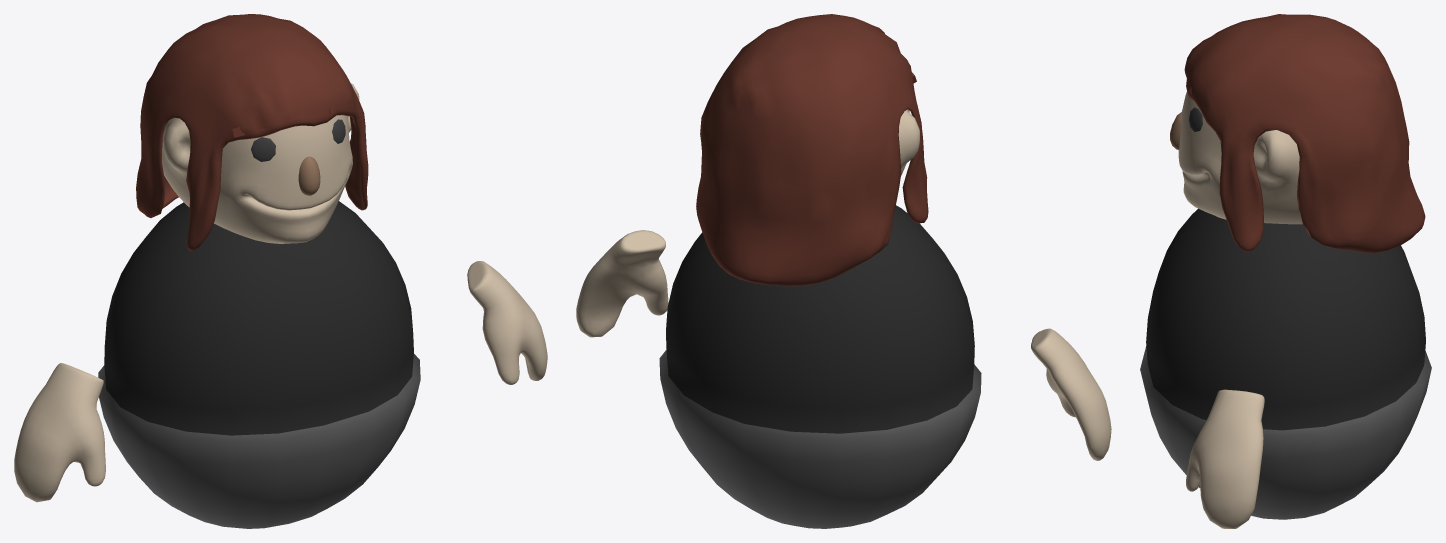
File: NPC_female01_plain.fbx
The picture shows the model from 3 angles, left to right: view 1: azimuth 30°, elevation 25°; view 2: azimuth 150°, elevation 25°; view 3: azimuth 270°, elevation 25°; orthographic projection.
Parts seen in each view (by area): view 1: Group31901, hair01:Group21854, Group18725, Group65443, Group65442, Group65441; view 2: Group31901, hair01:Group21854, Group65442, Group65443, Group18725; view 3: Group31901, hair01:Group21854, Group65442, Group18725.
Part boxes in pixels (bbox=[...]): Group31901: bbox=[98, 201, 420, 528]; hair01:Group21854: bbox=[136, 14, 368, 251]; Group18725: bbox=[162, 83, 359, 243]; Group65443: bbox=[14, 363, 105, 502]; Group65442: bbox=[467, 261, 547, 384]; Group65441: bbox=[298, 156, 320, 195]; Group31901: bbox=[659, 205, 981, 528]; hair01:Group21854: bbox=[696, 14, 928, 286]; Group65442: bbox=[576, 230, 668, 337]; Group65443: bbox=[1031, 328, 1111, 460]; Group18725: bbox=[898, 109, 919, 175]; Group31901: bbox=[1140, 208, 1431, 519]; hair01:Group21854: bbox=[1184, 14, 1425, 253]; Group65442: bbox=[1186, 389, 1264, 528]; Group18725: bbox=[1178, 91, 1302, 224].
Bounding box in the file's own units: 2.28 × 2.03 × 1.12.
